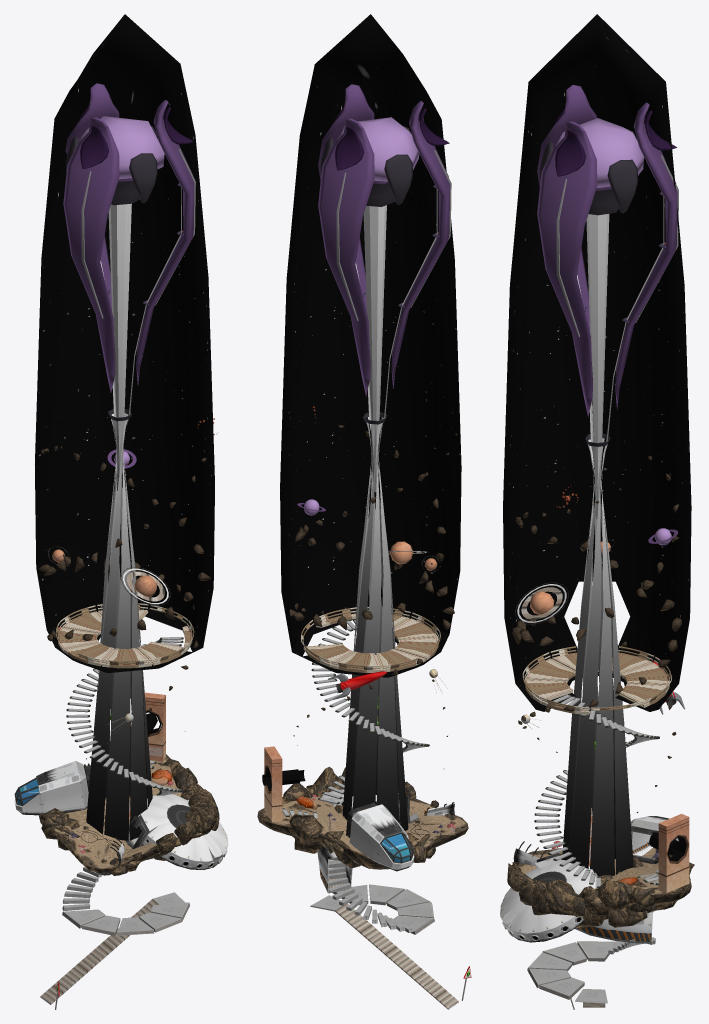
The model's file is magic_tower.glb.
3 renders of one model, left to right at view 1: azimuth 30°, elevation 25°; view 2: azimuth 150°, elevation 25°; view 3: azimuth 270°, elevation 25°, orthographic. The views are drawn at different scales.
Parts seen in each view (by area): view 1: Colony_Tower_Art; view 2: Colony_Tower_Art; view 3: Colony_Tower_Art.
Boxes of the visible parts, x1,y1,x2,y2 form: Colony_Tower_Art: (14, 14, 228, 1009); Colony_Tower_Art: (257, 14, 471, 1009); Colony_Tower_Art: (500, 14, 694, 1009).
Size of the model in its own units: 16.03 by 91.25 by 15.53.
Materials: 13 (13 with a texture image).
